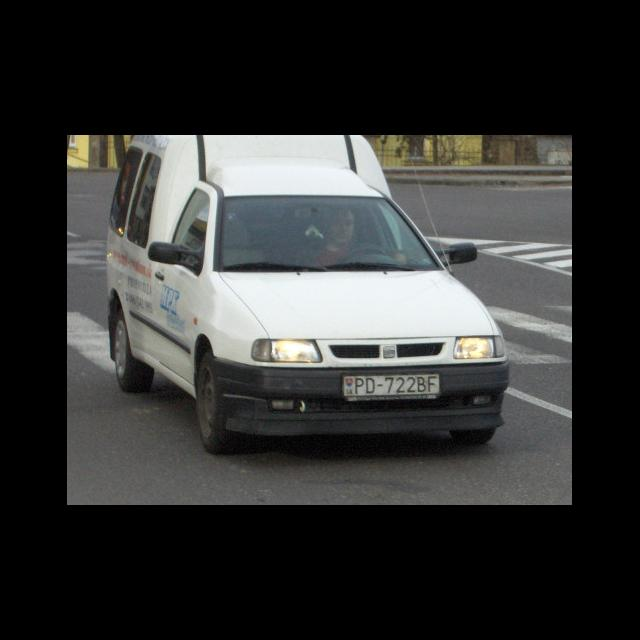Plate: (342, 371, 442, 398)
